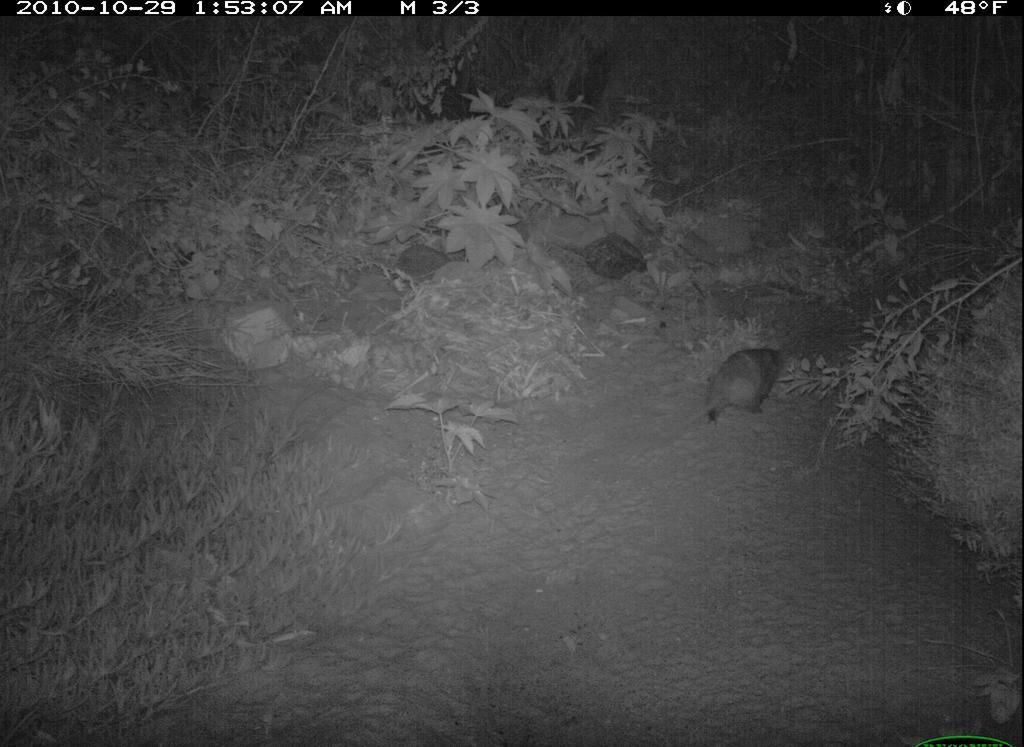opossum: (676, 342, 788, 437)
